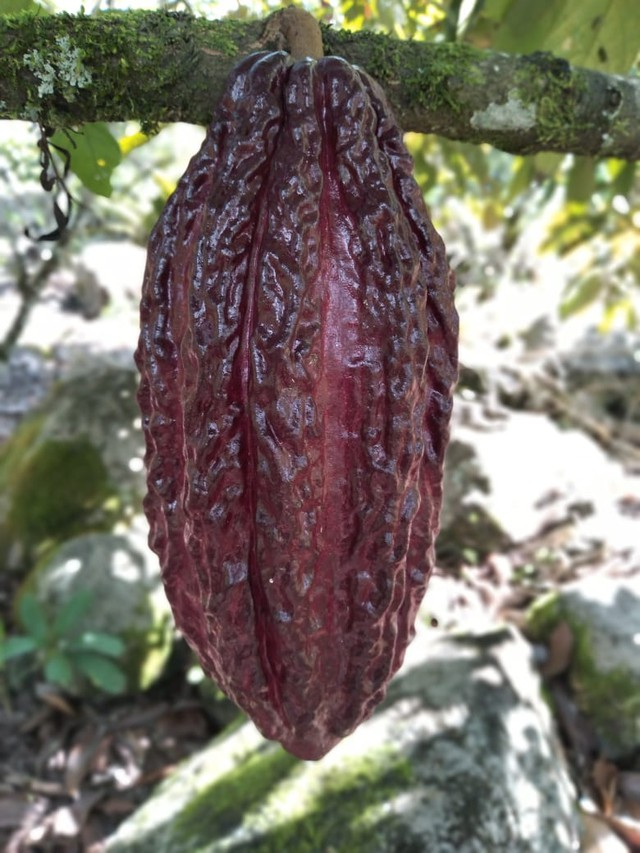Health: (110, 33, 469, 773)
